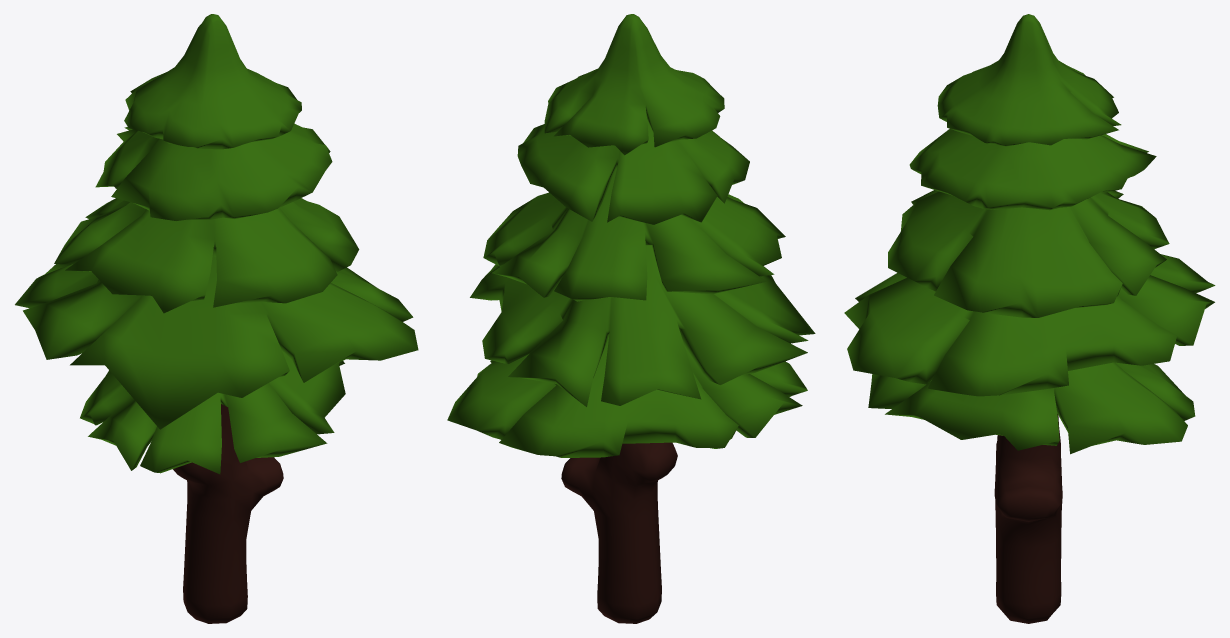
The model's file is tree.fbx.
The picture shows the model from 3 angles, left to right: view 1: azimuth 30°, elevation 25°; view 2: azimuth 150°, elevation 25°; view 3: azimuth 270°, elevation 25°; orthographic projection.
Parts seen in each view (by area): view 1: PineTrees.008; view 2: PineTrees.008; view 3: PineTrees.008.
Boxes of the visible parts, x1,y1,x2,y2 form: PineTrees.008: [15, 14, 418, 623]; PineTrees.008: [447, 14, 815, 623]; PineTrees.008: [844, 14, 1215, 623].
Size of the model in its own units: 332 by 579 by 324.
